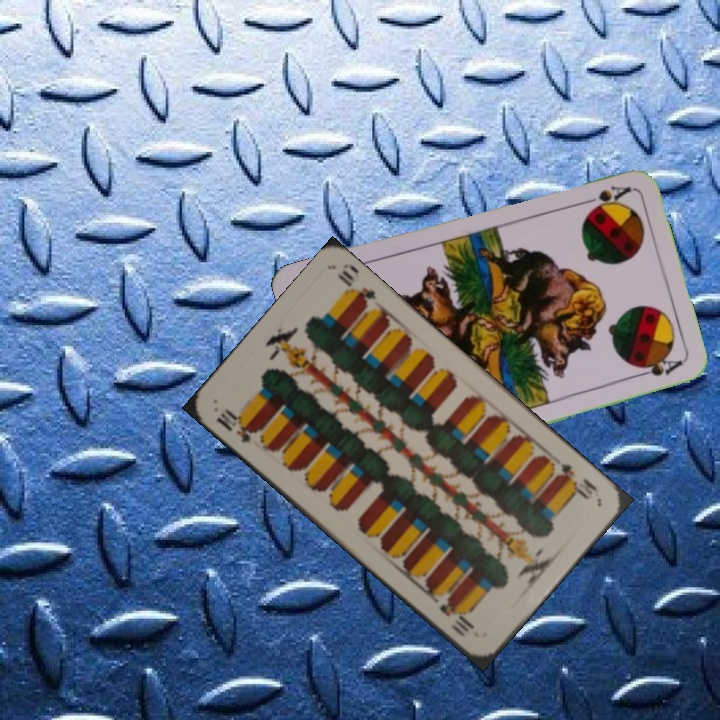E10: (553, 459, 603, 503), (212, 404, 260, 446)
SA: (575, 181, 633, 212)
